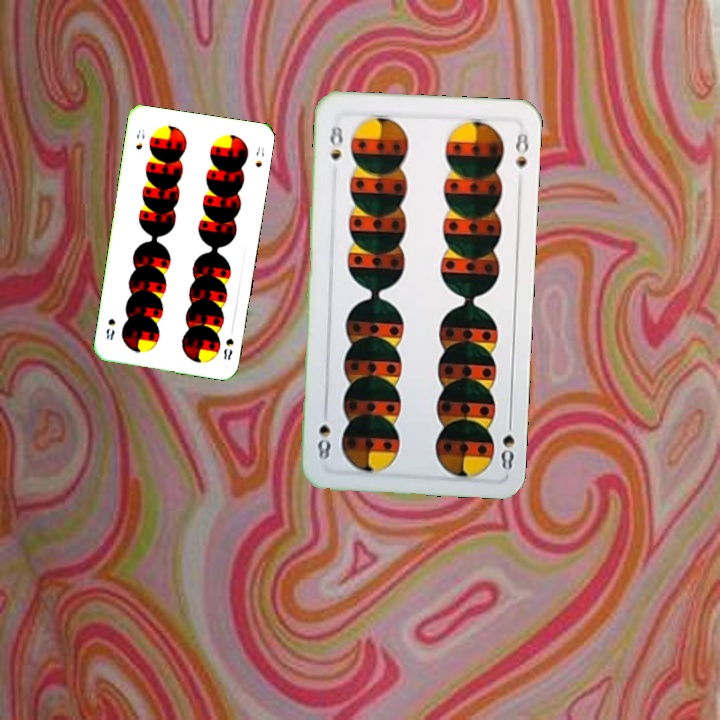S8: (497, 414, 517, 472), (326, 121, 346, 162), (220, 334, 236, 362), (132, 125, 147, 152)
